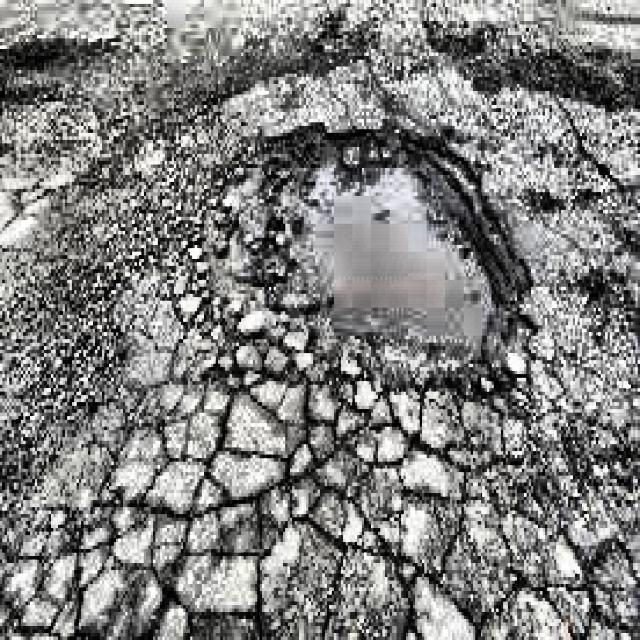Cracks: (223, 147, 522, 332)
Potholes: (2, 328, 592, 636)
